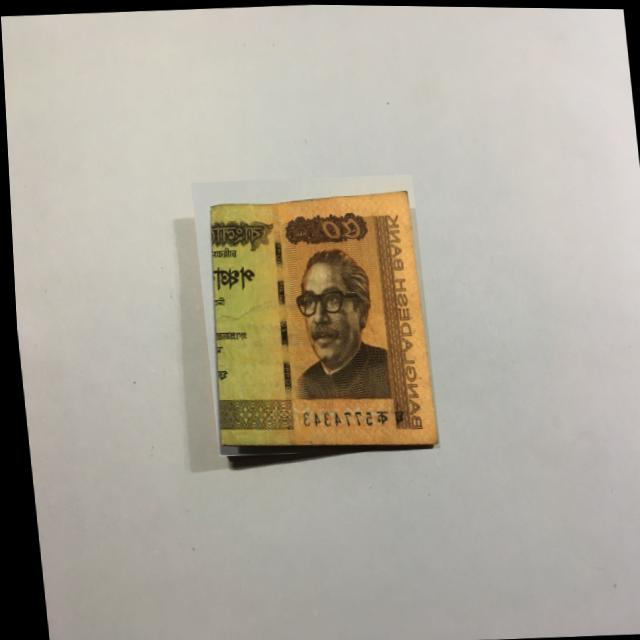Taka: (188, 171, 436, 459)
